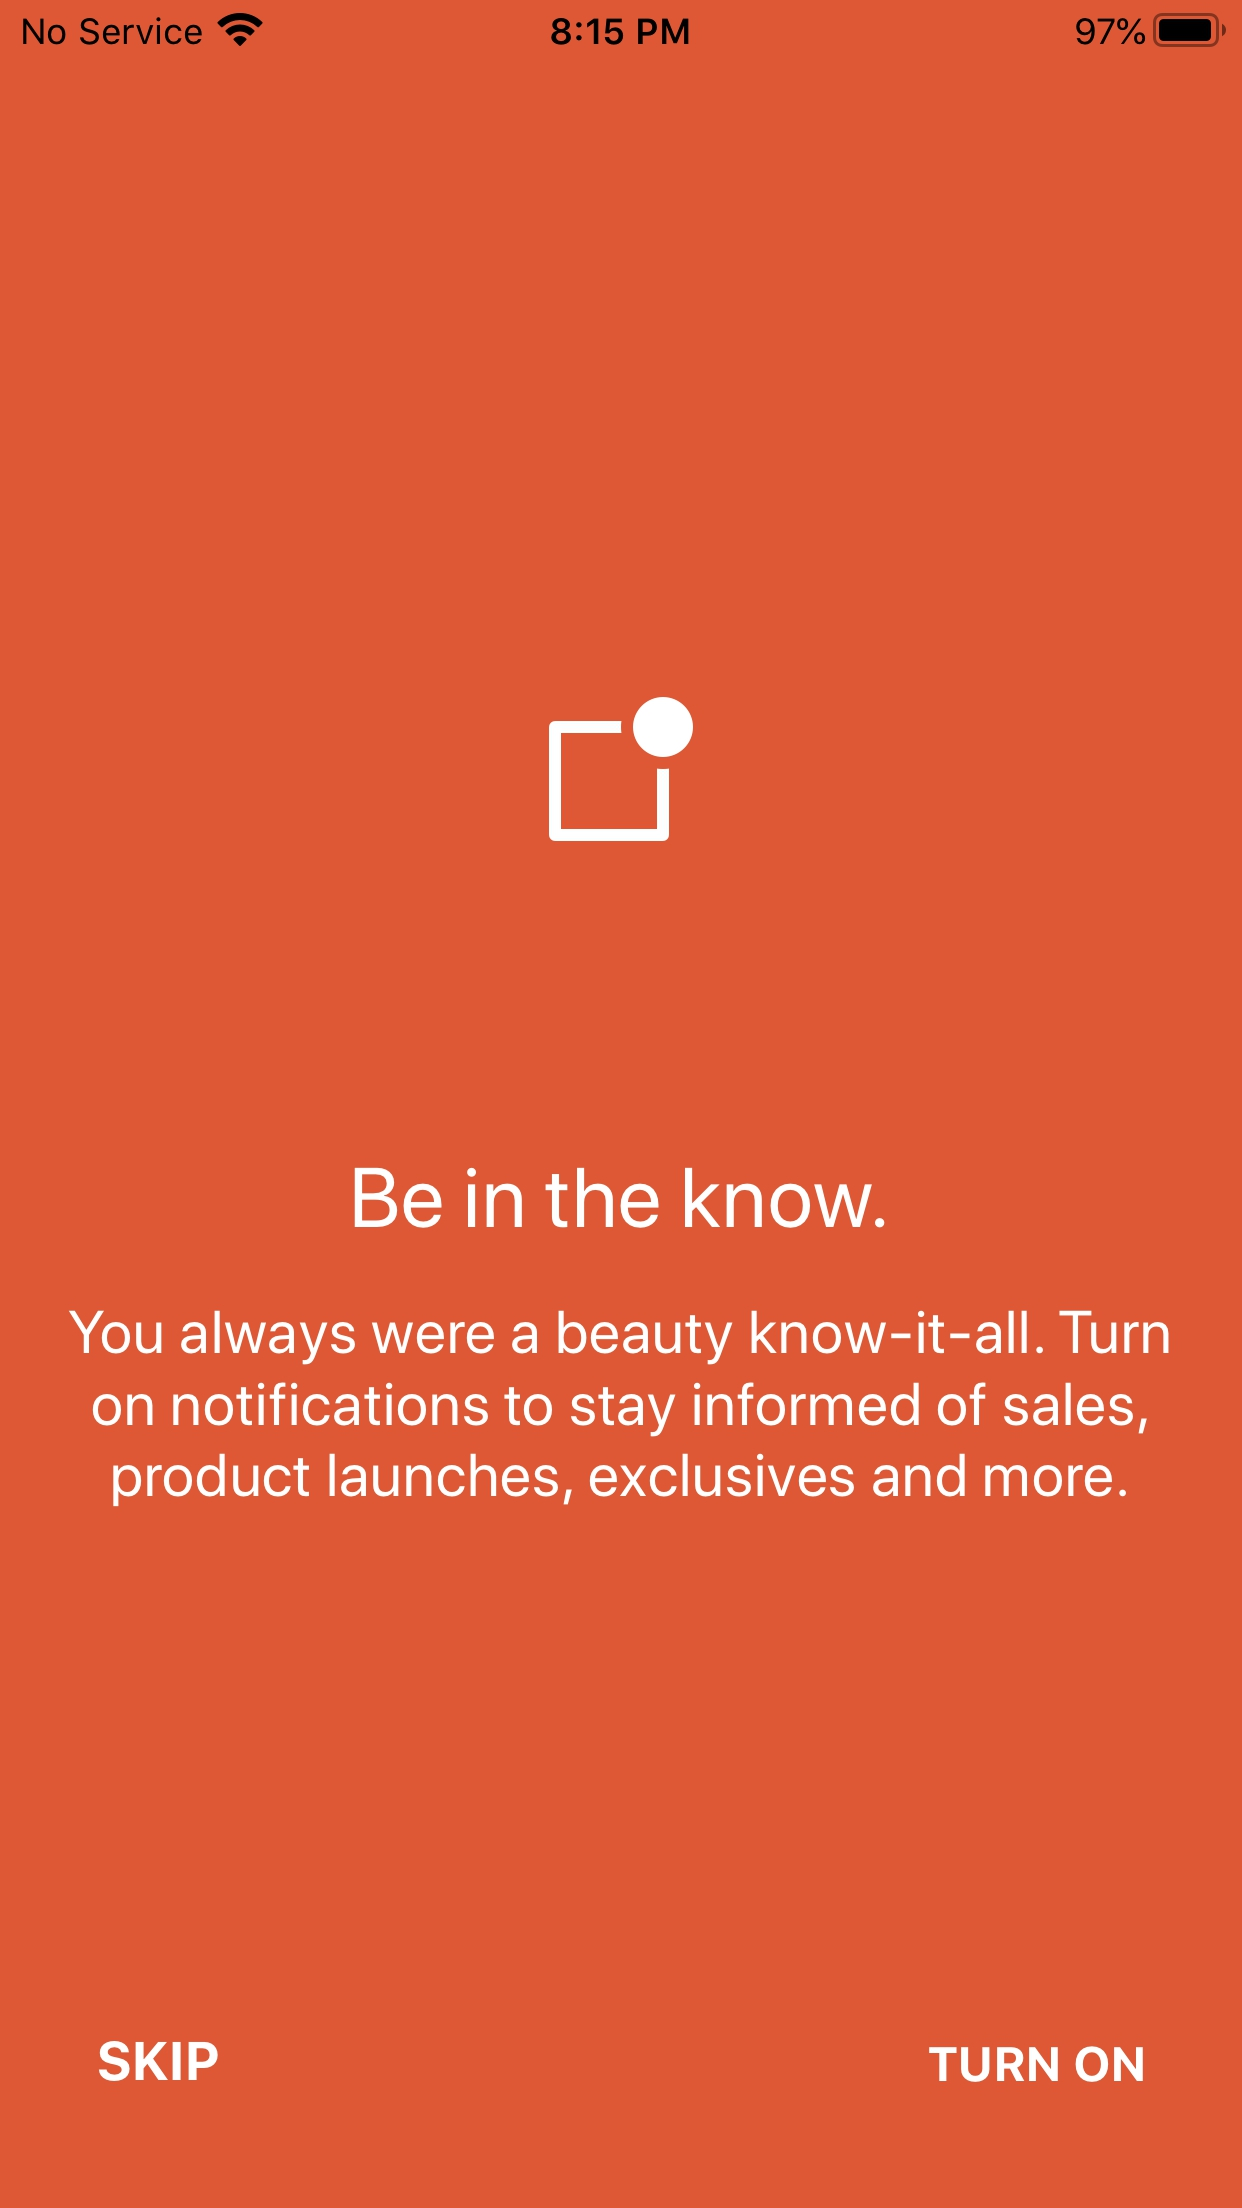Image: (549, 696, 693, 842)
Text: (68, 1309, 1171, 1507), (353, 1168, 886, 1228), (928, 2046, 1143, 2082), (99, 2040, 218, 2082)
UpperTaskBar: (2, 2, 1242, 49)
